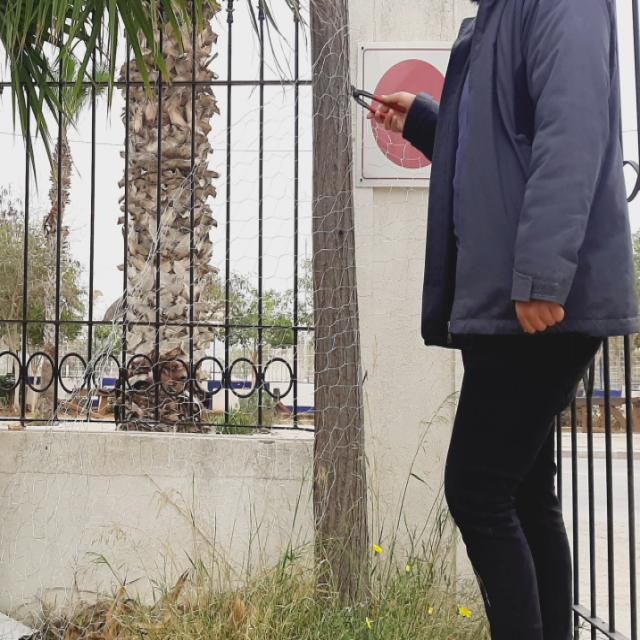fence line: (0, 61, 201, 506), (362, 8, 475, 119), (264, 106, 351, 227)
